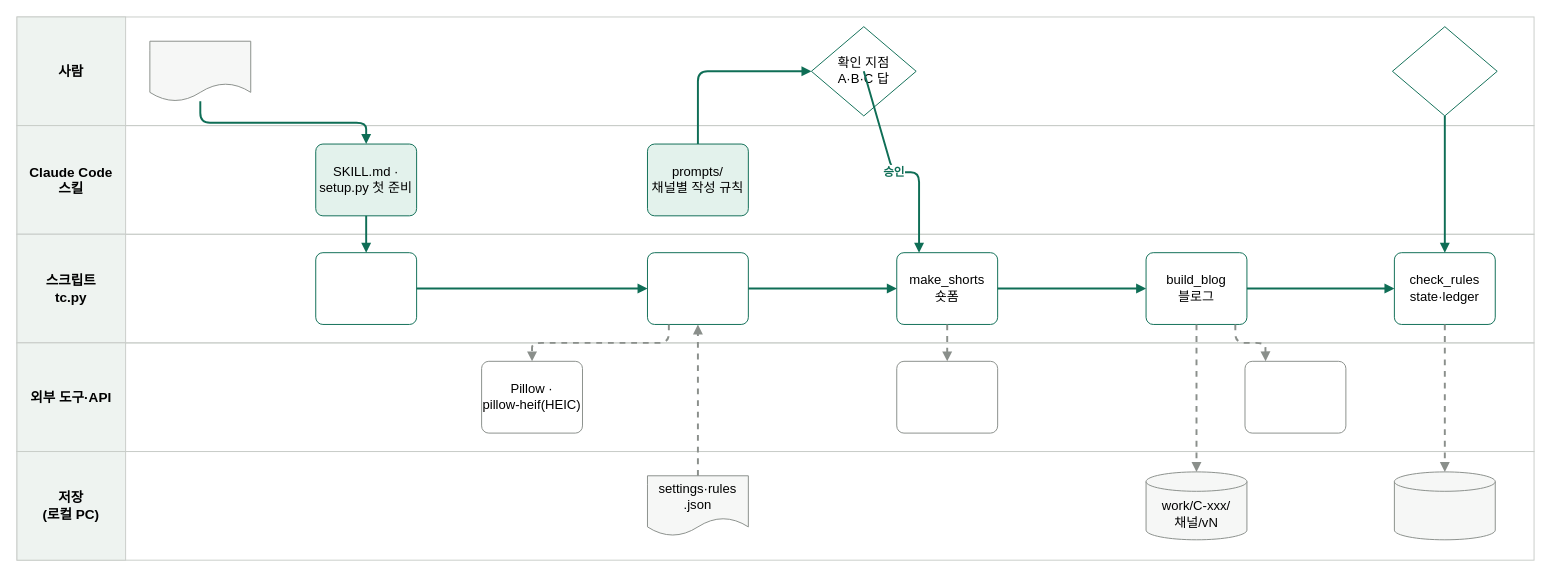
This 1551x577 diagram has some shape labels left out. Here are the shapes that lost their labels. From the top down, the centre of each, then its label:
(x=200, y=70): 스킬 zip 넣기 + 사진 폴더
(x=1444, y=71): D 대표 승인 E 링크
(x=366, y=288): insta-pick·use 사진·시트
(x=697, y=288): render_cards 인스타 카드
(x=947, y=396): ffmpeg 자동 · OpenAI TTS
(x=1295, y=396): OS 기본 음성 (선택: Chrome)
(x=1444, y=505): ledger.xlsx
